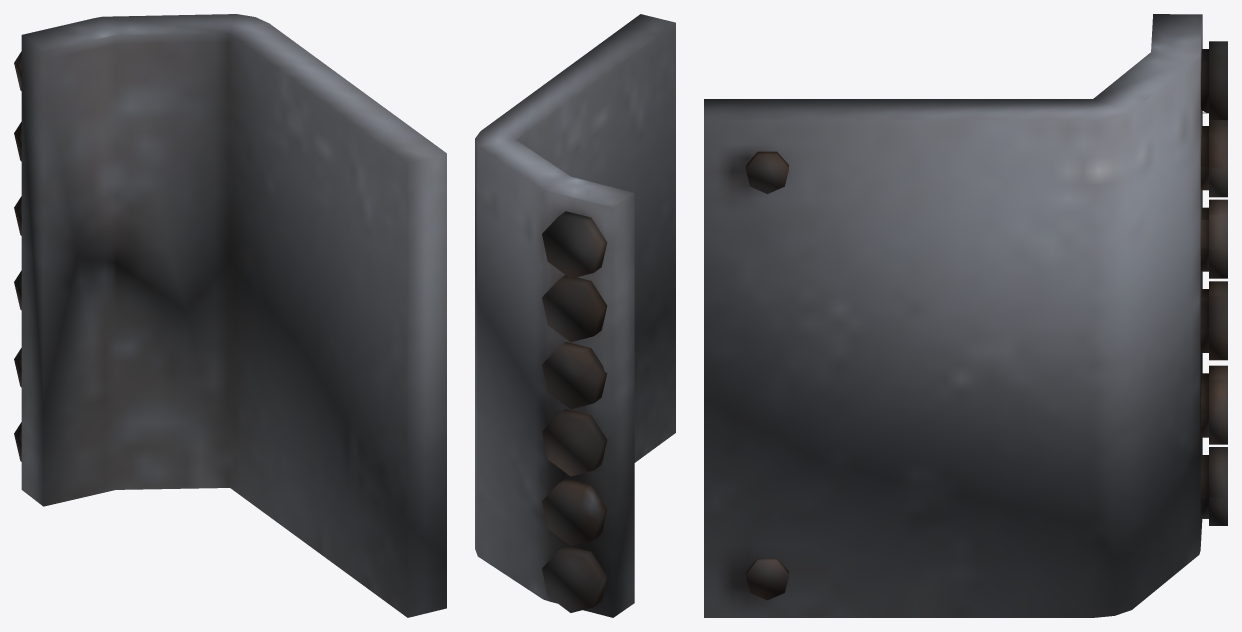
The model's file is TLOG_Mount.fbx.
3 renders of one model, left to right at view 1: azimuth 30°, elevation 25°; view 2: azimuth 150°, elevation 25°; view 3: azimuth 270°, elevation 25°, orthographic. The views are drawn at different scales.
Parts seen in each view (by area): view 1: Cube.004; view 2: Cube.004; view 3: Cube.004.
Part boxes in pixels (box(x1,y1,x2,y2)): Cube.004: box(14, 14, 446, 617); Cube.004: box(475, 14, 675, 617); Cube.004: box(704, 14, 1227, 617).
Size of the model in its own units: 0.0184 by 0.0384 by 0.0366.
